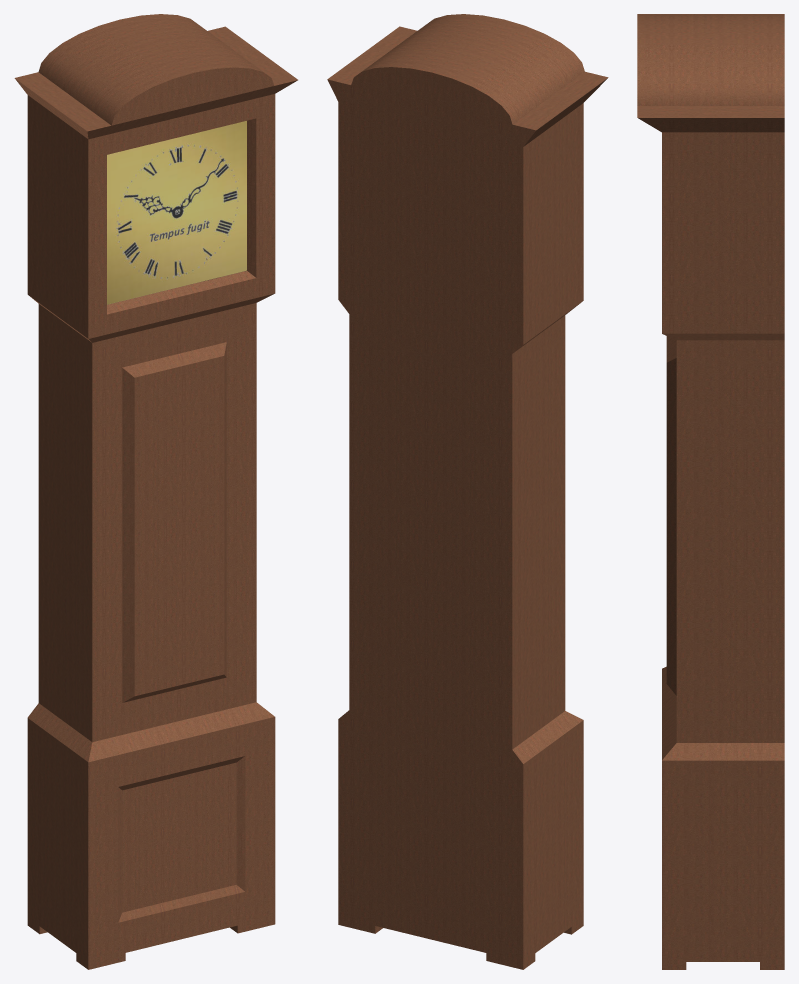
Rendered from longcase_clock.obj.
3 views of the same model, side by side, from view 1: azimuth 30°, elevation 25°; view 2: azimuth 150°, elevation 25°; view 3: azimuth 270°, elevation 25° (orthographic).
Visible parts, largest first — view 1: 1_1, 3_2, 9_5, 11_6, 5_3, 7_4; view 2: 1_1; view 3: 1_1, 3_2.
Part boxes in pixels (x1,y1,x2,y2): 1_1: (14, 14, 297, 969); 3_2: (122, 342, 226, 702); 9_5: (107, 121, 246, 304); 11_6: (107, 121, 246, 304); 5_3: (118, 756, 245, 922); 7_4: (107, 118, 256, 314); 1_1: (327, 14, 608, 969); 1_1: (637, 14, 784, 969); 3_2: (666, 336, 676, 695).
Bounding box in the file's own units: 50 × 200 × 30.
Materials: 3 (2 with a texture image).
